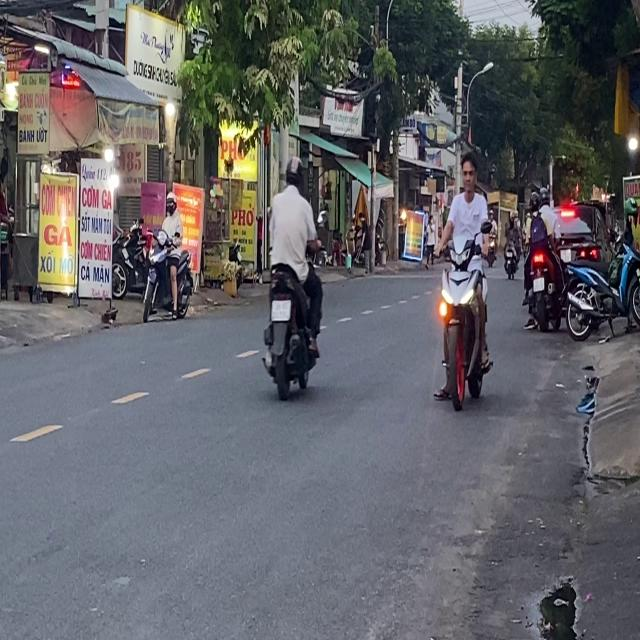helmet: (283, 154, 303, 190), (164, 191, 177, 216)
licenseplate: (430, 151, 496, 412), (261, 153, 324, 398), (141, 190, 194, 322)
motorcyclist: (458, 151, 478, 195)
nohelmet: (271, 300, 290, 320)
